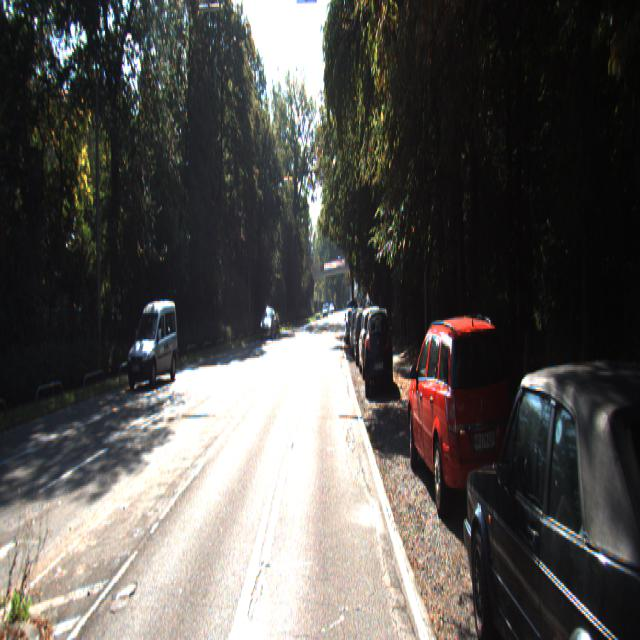Car: (459, 338, 640, 638), (403, 312, 520, 534), (124, 294, 180, 388), (364, 302, 394, 392), (359, 307, 386, 380), (354, 310, 374, 368), (260, 306, 278, 339), (347, 310, 359, 346)
